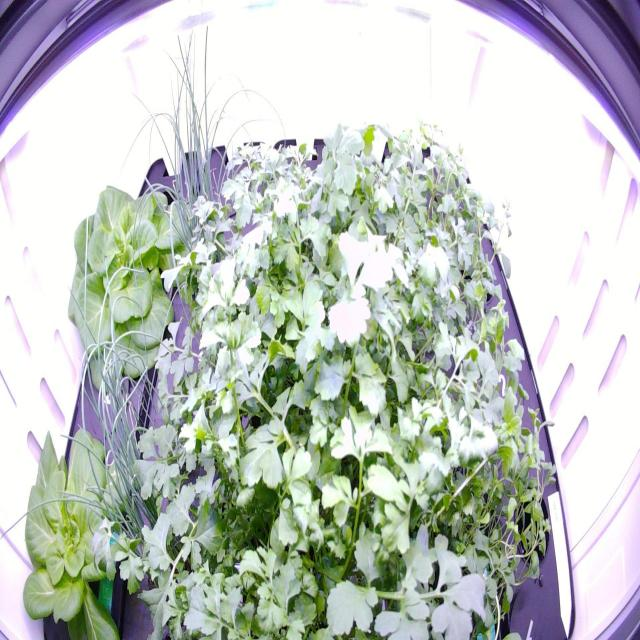young: (8, 407, 177, 636), (62, 175, 202, 406)
